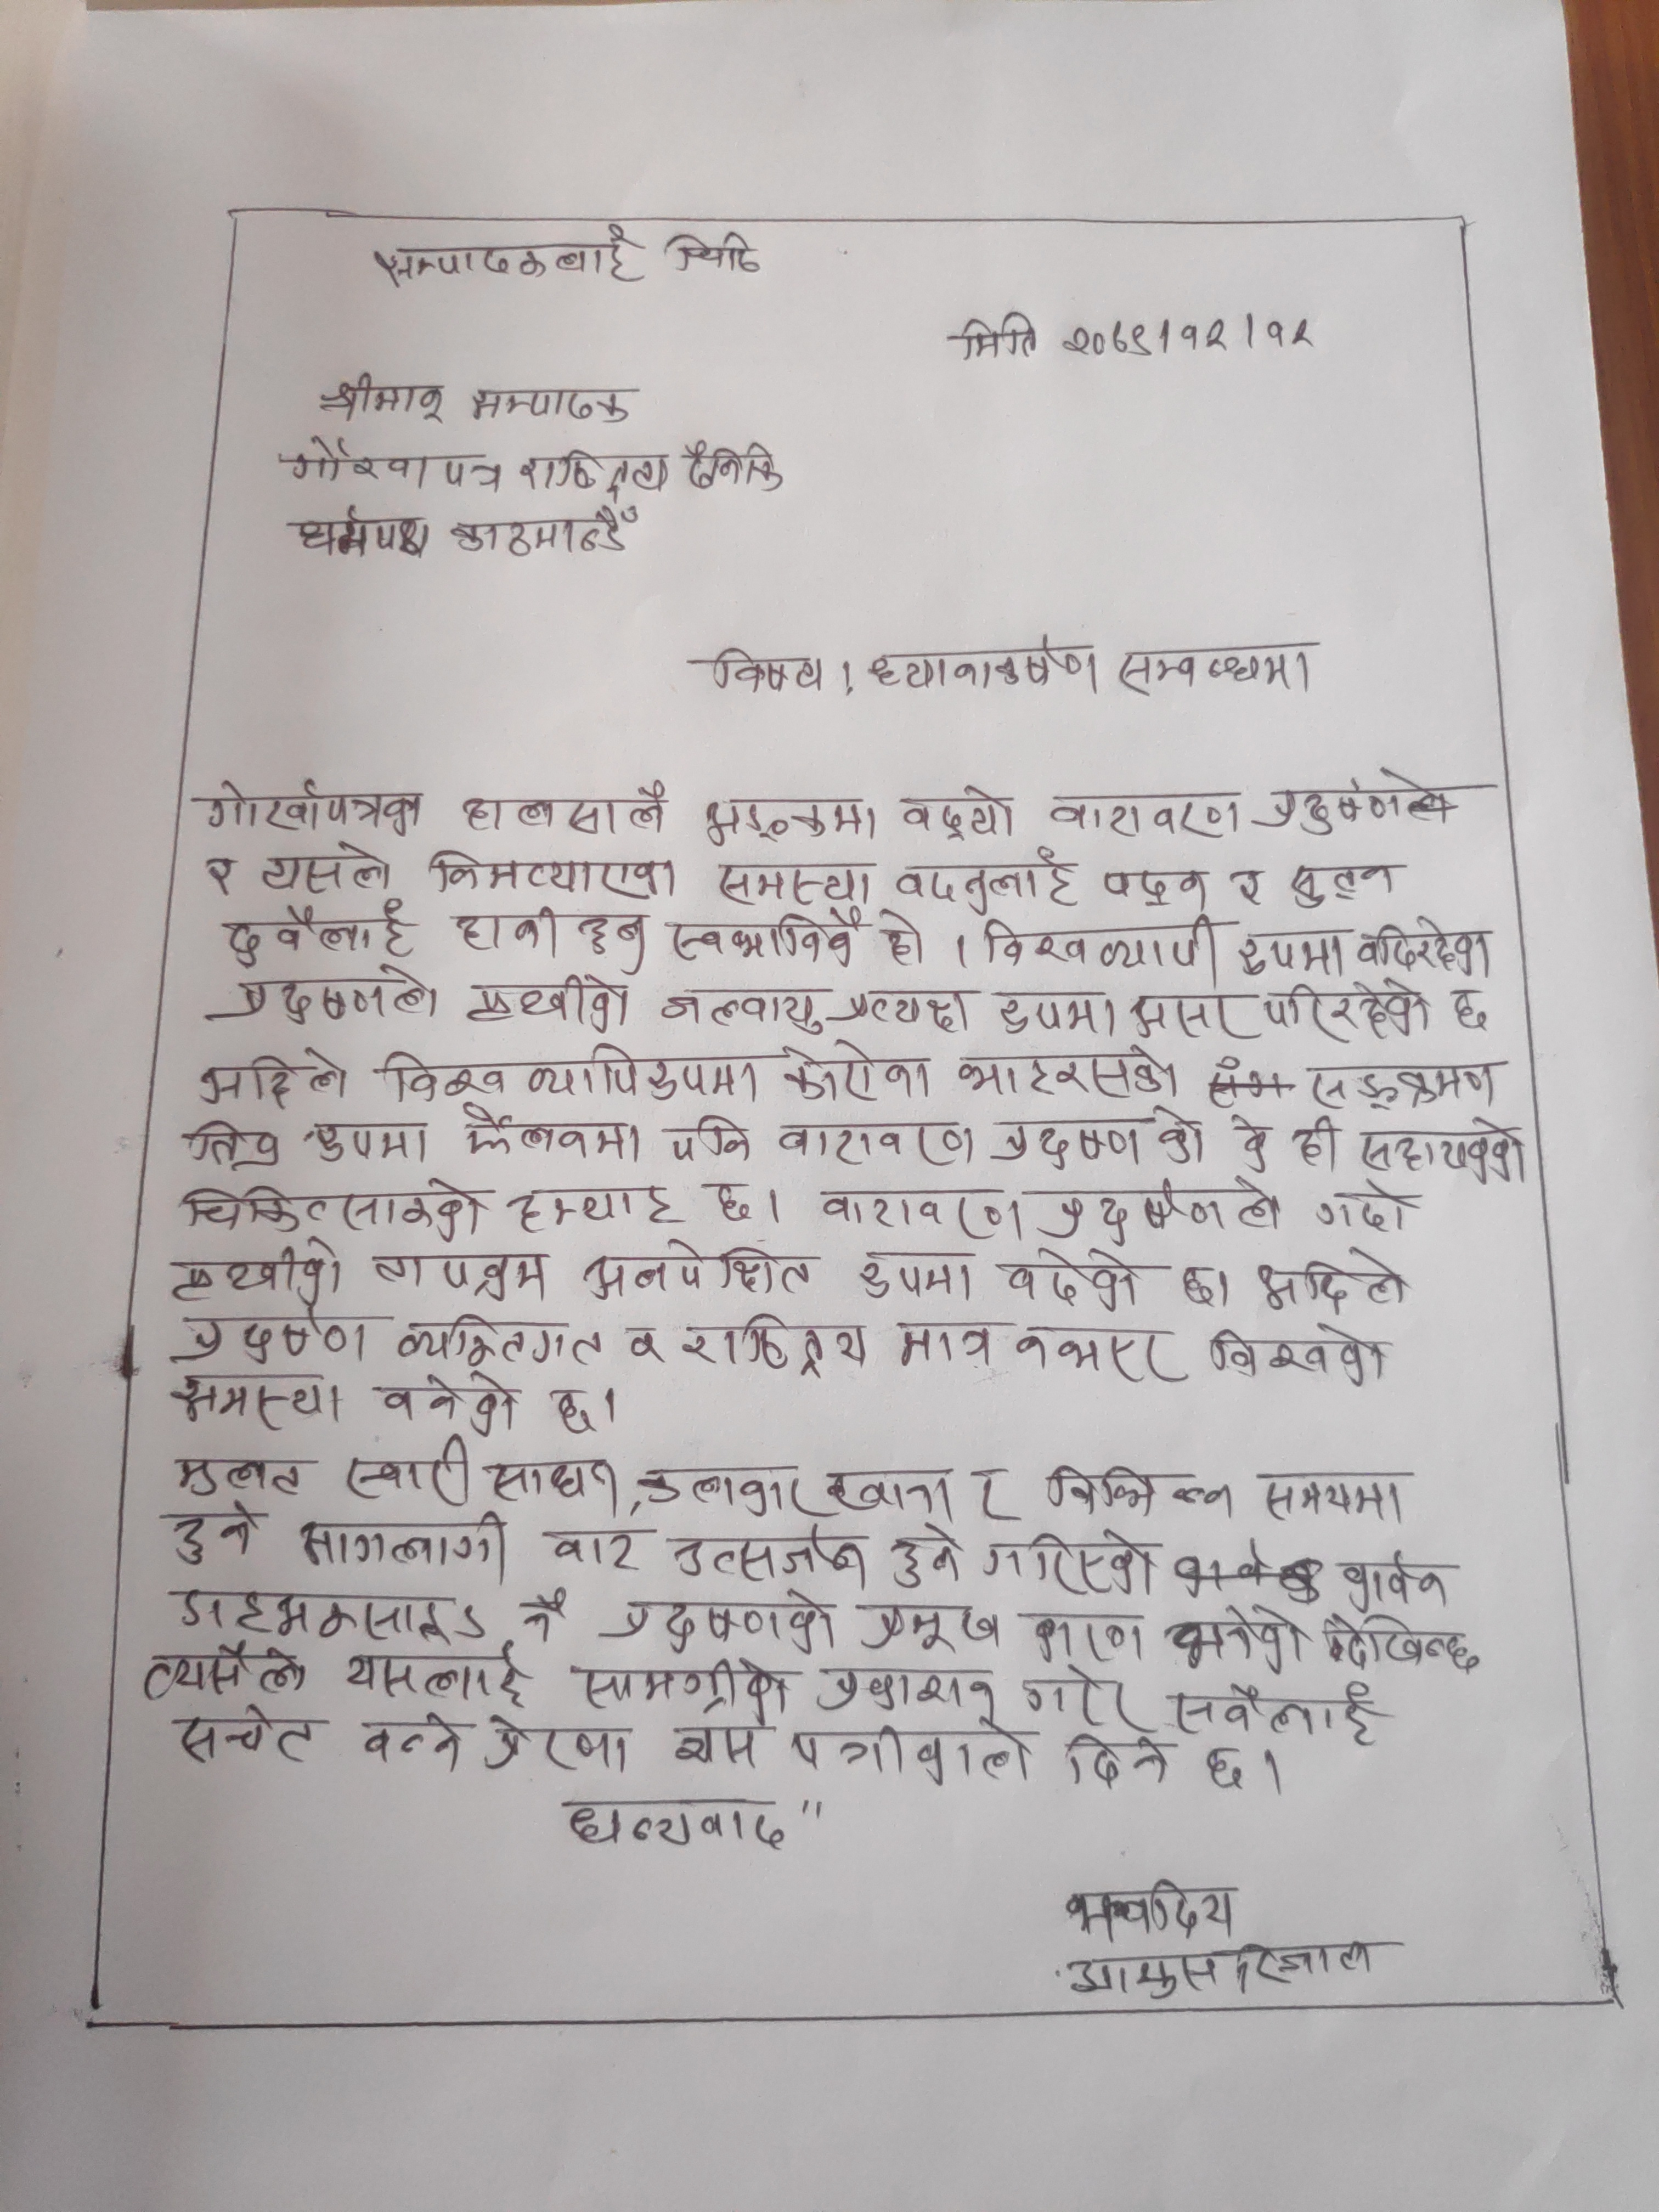text: (380, 1033, 769, 1108), (1065, 1937, 1394, 1998), (162, 1585, 486, 1646), (579, 1233, 823, 1308), (1046, 1174, 1288, 1247), (364, 225, 641, 286), (179, 1181, 488, 1235), (795, 1721, 1046, 1787), (988, 1099, 1215, 1172), (1159, 1676, 1387, 1747), (552, 1656, 798, 1723), (976, 907, 1227, 972), (606, 1587, 842, 1653), (554, 1796, 793, 1860), (301, 1507, 518, 1576), (812, 1177, 1032, 1245), (281, 434, 505, 500), (451, 906, 655, 977), (864, 636, 1110, 695), (683, 1305, 882, 1378), (427, 846, 678, 904), (169, 1301, 373, 1371), (188, 779, 437, 834), (369, 1238, 563, 1310), (392, 1308, 610, 1371), (1202, 1318, 1398, 1388), (335, 1642, 530, 1712), (1061, 307, 1328, 357), (1244, 972, 1432, 1043), (1260, 770, 1473, 833), (223, 965, 441, 1026), (451, 496, 647, 564), (1037, 1460, 1241, 1524), (1356, 1109, 1530, 1184), (160, 1233, 352, 1301), (209, 902, 413, 965), (1051, 1876, 1253, 1939), (1007, 1317, 1180, 1390), (955, 1045, 1188, 1099), (701, 786, 885, 853), (460, 779, 678, 836), (666, 907, 870, 968), (636, 1458, 817, 1526), (978, 1524, 1159, 1592), (1298, 1054, 1507, 1111), (455, 1103, 647, 1165), (765, 1115, 979, 1170), (167, 1371, 347, 1437), (810, 1662, 1011, 1721), (477, 1709, 647, 1778), (660, 1524, 875, 1578), (1117, 639, 1324, 695), (202, 1042, 356, 1116), (889, 855, 1080, 914), (777, 1040, 936, 1111), (1321, 1611, 1492, 1676), (131, 1642, 315, 1702), (1351, 909, 1499, 982), (857, 1590, 1011, 1660), (342, 1433, 477, 1512), (380, 1367, 525, 1440), (516, 441, 678, 505), (1159, 1601, 1312, 1669), (471, 970, 641, 1031), (176, 1703, 322, 1773), (655, 981, 831, 1038), (990, 1249, 1150, 1312), (310, 366, 453, 435), (1044, 792, 1248, 841), (509, 1174, 685, 1230), (1251, 1252, 1412, 1313), (1258, 1463, 1419, 1524), (695, 636, 840, 702), (281, 507, 444, 564), (901, 780, 1026, 853), (716, 852, 878, 907), (1019, 1601, 1152, 1669), (486, 1449, 624, 1514), (823, 1454, 958, 1519), (830, 975, 972, 1036), (1127, 970, 1248, 1042), (856, 1244, 985, 1310), (460, 378, 647, 423), (1344, 1541, 1460, 1613), (1230, 1103, 1344, 1176), (1019, 1669, 1141, 1733), (254, 841, 399, 895), (1056, 1730, 1178, 1789), (167, 1453, 319, 1500), (305, 1116, 441, 1169), (537, 1515, 650, 1576), (1274, 855, 1405, 907), (1230, 927, 1351, 982), (894, 1308, 995, 1372), (167, 1500, 260, 1569), (999, 991, 1115, 1042), (361, 1717, 462, 1775), (1098, 862, 1218, 909), (1314, 1183, 1412, 1240), (683, 439, 788, 491), (181, 1120, 291, 1169), (660, 226, 765, 277), (955, 312, 1049, 364), (664, 1113, 756, 1165), (673, 1721, 769, 1770), (892, 1524, 969, 1581), (965, 1463, 1025, 1524), (706, 1169, 762, 1231), (509, 1585, 572, 1639), (1199, 1737, 1249, 1801), (875, 911, 931, 968), (551, 1381, 606, 1437), (1223, 857, 1274, 916), (1453, 979, 1502, 1040), (1166, 1263, 1222, 1310), (195, 846, 242, 900), (622, 1320, 669, 1360)
